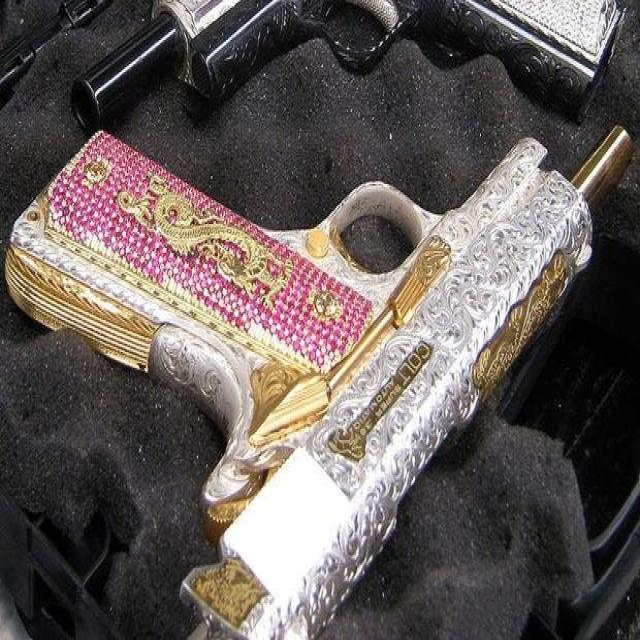pistol: (5, 121, 633, 638), (67, 0, 630, 138)
